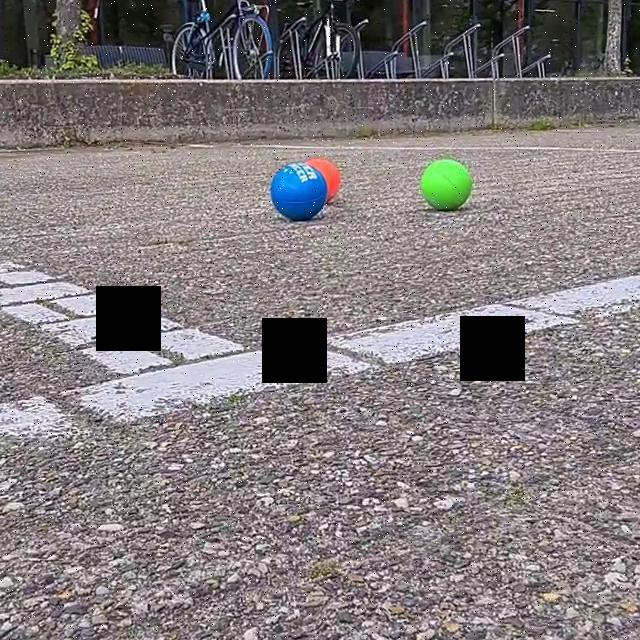ball: (268, 162, 332, 226), (418, 154, 476, 217)
